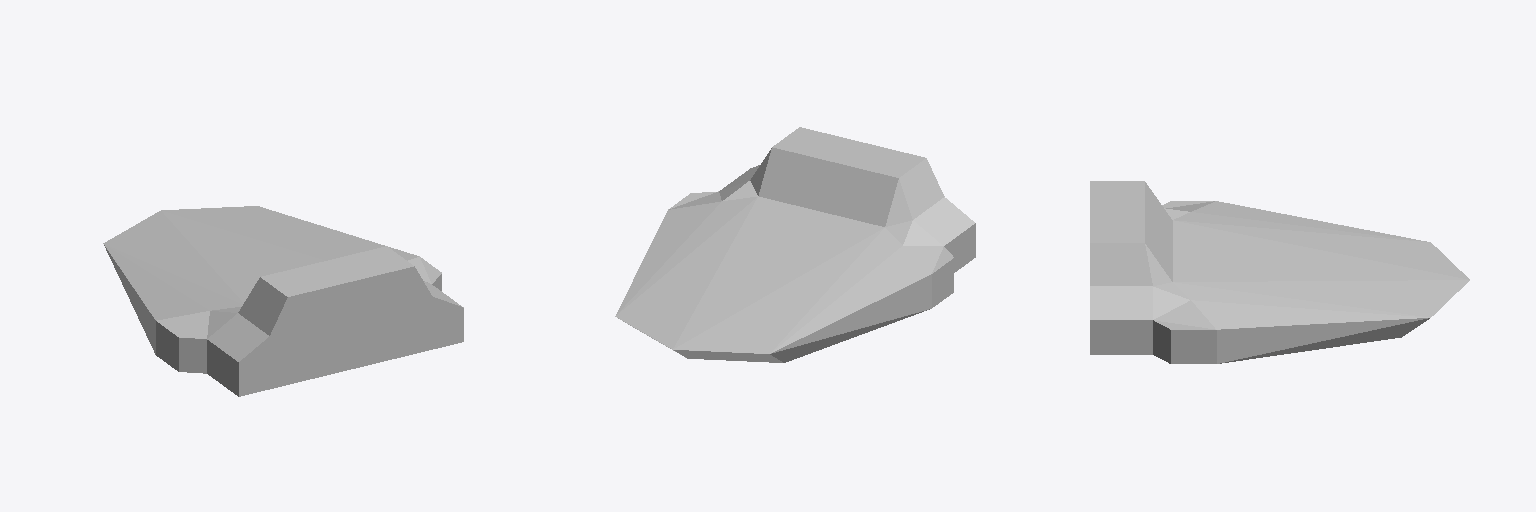
The picture shows the model from 3 angles: view 1: azimuth 30°, elevation 25°; view 2: azimuth 150°, elevation 25°; view 3: azimuth 270°, elevation 25°; orthographic projection.
Visible parts, largest first — view 1: Tray; view 2: Tray; view 3: Tray.
Part boxes in pixels (bbox=[...]): Tray: bbox=[103, 206, 463, 396]; Tray: bbox=[615, 127, 975, 362]; Tray: bbox=[1090, 181, 1469, 363].
Size of the model in its own units: 1.5 by 0.4766 by 1.88.